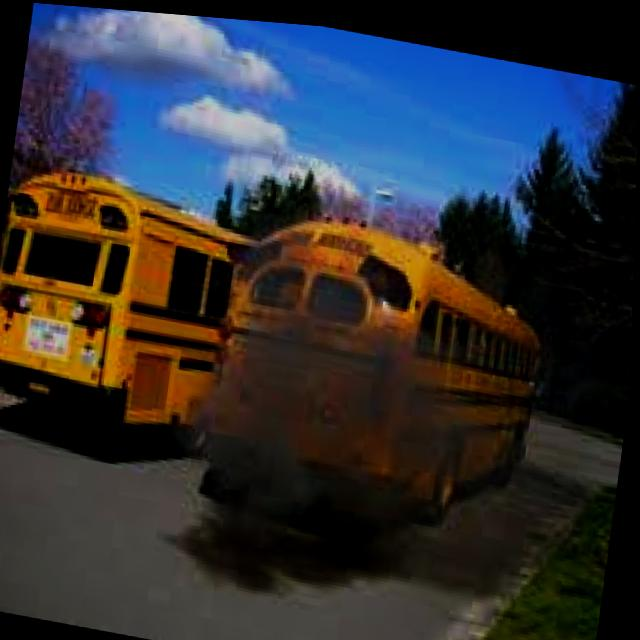Smoke: (179, 280, 496, 577)
